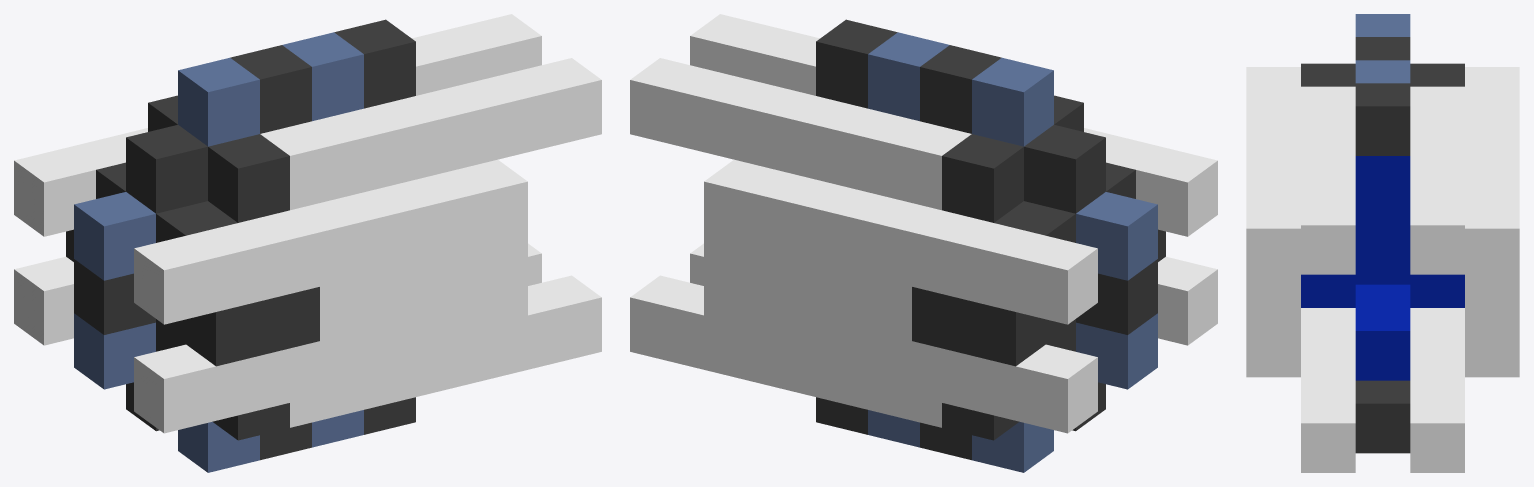
File: weapon_blaster.glb
3 renders of one model, left to right at view 1: azimuth 30°, elevation 25°; view 2: azimuth 150°, elevation 25°; view 3: azimuth 270°, elevation 25°, orthographic. The views are drawn at different scales.
Visible parts, largest first — view 1: Mesh_0; view 2: Mesh_0; view 3: Mesh_0.
Boxes of the visible parts, box(x1,y1,x2,y2) form: Mesh_0: box(14, 14, 601, 472); Mesh_0: box(630, 14, 1217, 472); Mesh_0: box(1246, 14, 1519, 472).
Bounding box in the file's own units: 9 × 7 × 5.
